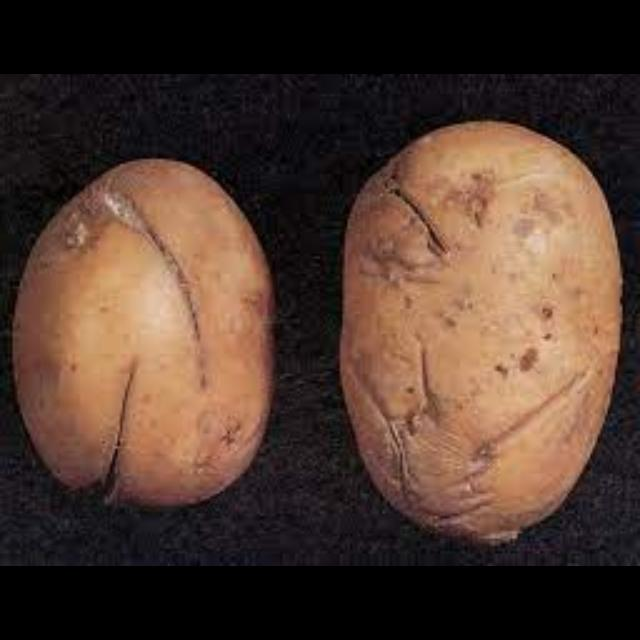Damaged potato: (332, 108, 632, 552), (16, 154, 272, 514)
